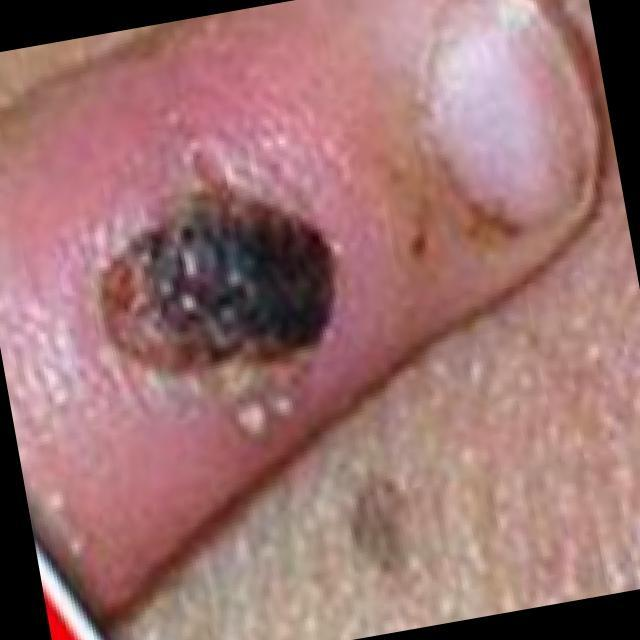Eczema: (92, 166, 354, 412)
